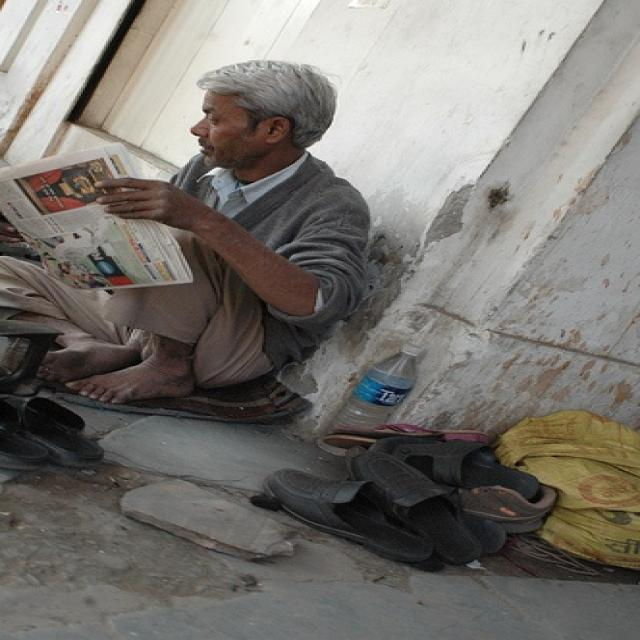bottle: (312, 339, 426, 460)
